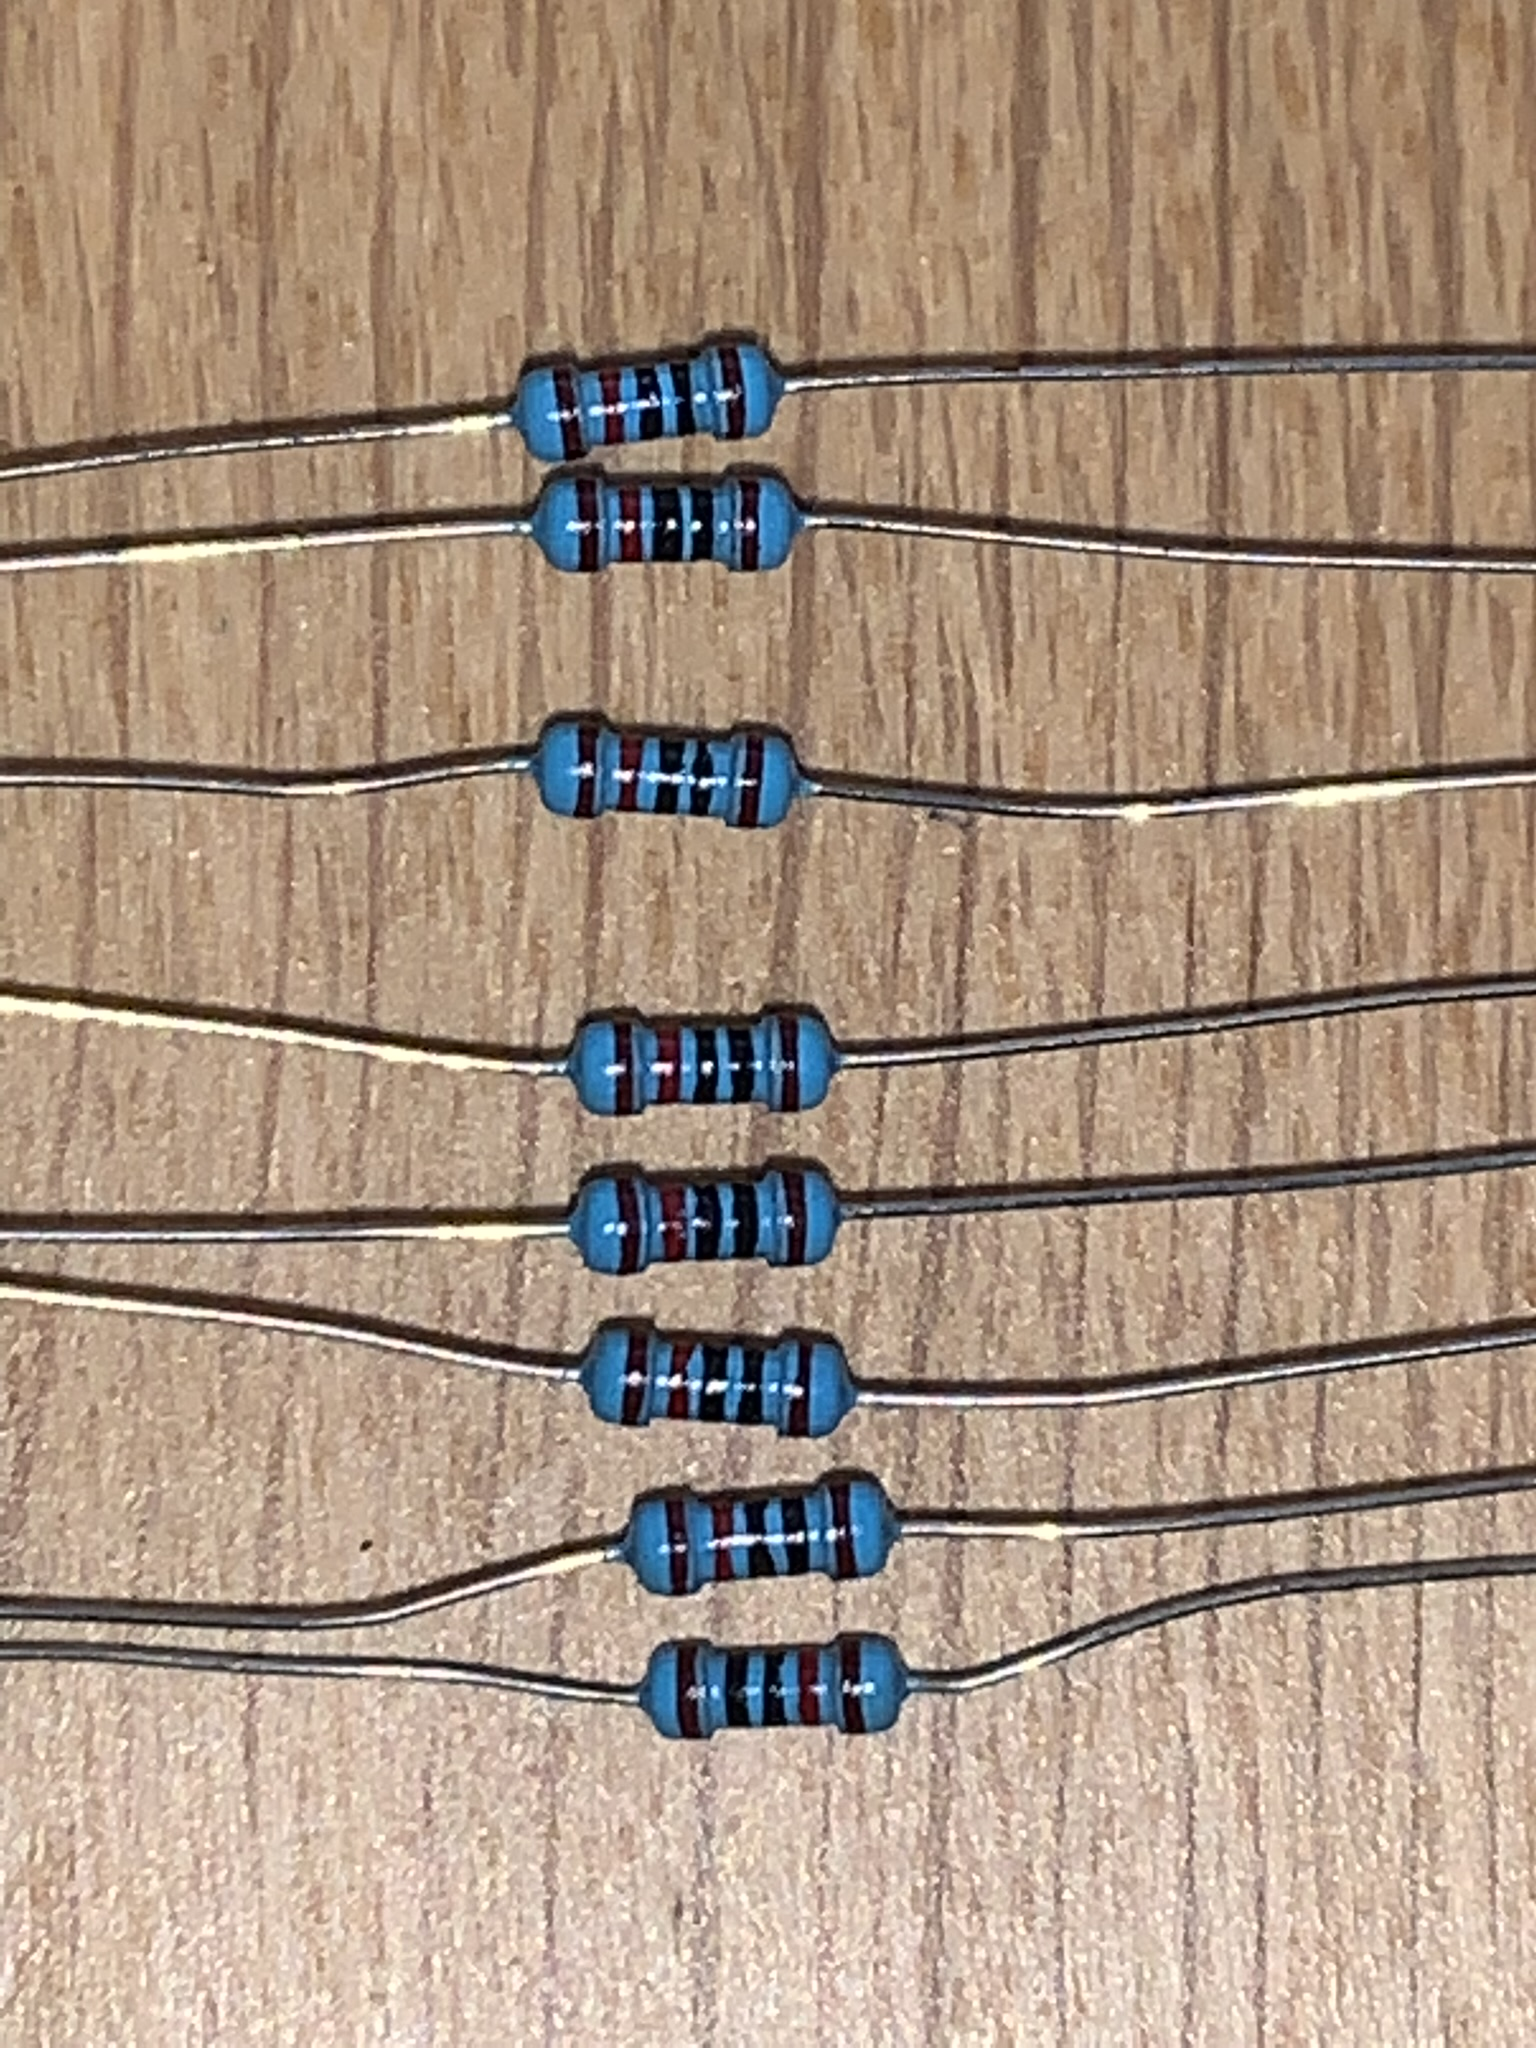resistor_thd: (511, 337, 781, 464), (624, 1472, 897, 1598), (578, 1319, 854, 1443), (566, 1163, 841, 1277), (531, 718, 800, 830), (566, 1006, 836, 1119), (529, 468, 802, 576), (641, 1634, 907, 1743)
